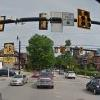Traffic light: (34, 7, 100, 40)
